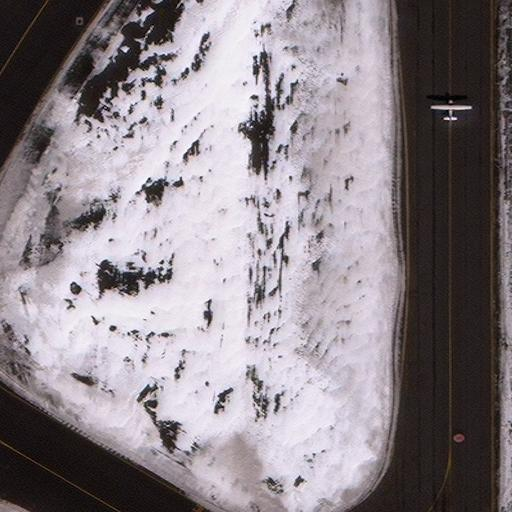Small Civil Transport: (431, 98, 472, 123)
